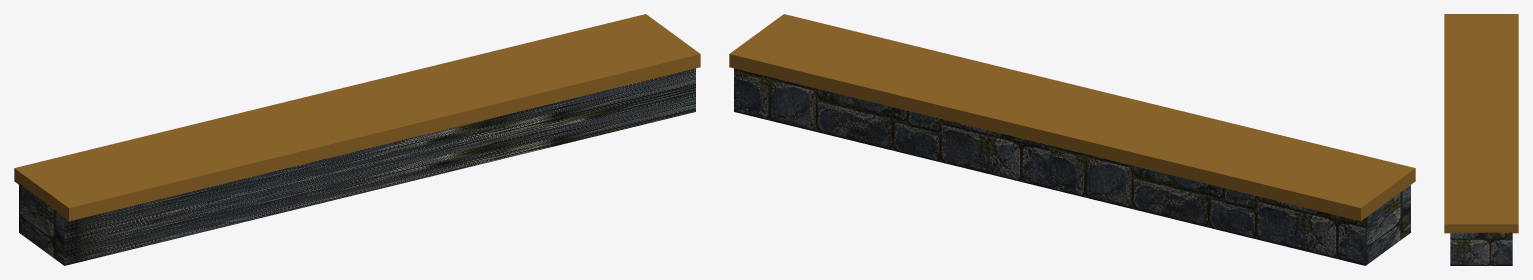
Rendered from M_Entablamento.obj.
3 renders of one model, left to right at view 1: azimuth 30°, elevation 25°; view 2: azimuth 150°, elevation 25°; view 3: azimuth 270°, elevation 25°, orthographic. The views are drawn at different scales.
Visible parts, largest first — view 1: M_Entablamento; view 2: M_Entablamento; view 3: M_Entablamento.
Part boxes in pixels (left/top/right/bottom): M_Entablamento: left=14, top=14, right=700, bottom=265; M_Entablamento: left=729, top=14, right=1415, bottom=265; M_Entablamento: left=1444, top=14, right=1518, bottom=265.
Bounding box in the file's own units: 4 × 0.37 × 0.6.
Materials: 2 (1 with a texture image).
